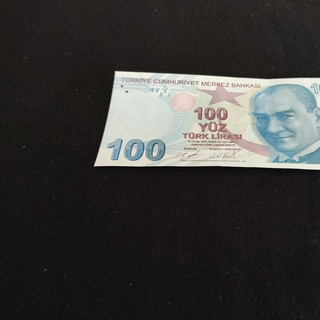100TLFront: (93, 71, 320, 172)
